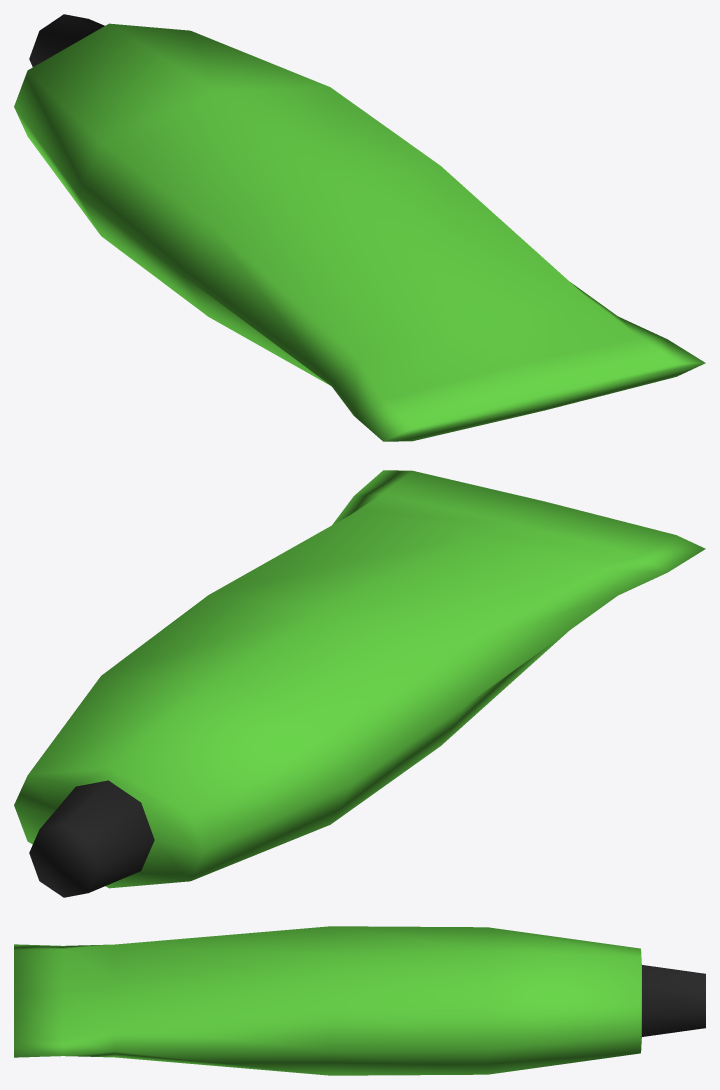
File: Paste.fbx
3 views of the same model, one above another, from view 1: azimuth 30°, elevation 25°; view 2: azimuth 150°, elevation 25°; view 3: azimuth 270°, elevation 25° (orthographic). The views are drawn at different scales.
Visible parts, largest first — view 1: Paste; view 2: Paste; view 3: Paste.
Boxes of the visible parts, bbox=[...] form: Paste: bbox=[14, 14, 705, 441]; Paste: bbox=[14, 470, 705, 897]; Paste: bbox=[14, 926, 705, 1075].
Size of the model in its own units: 14.04 by 5.76 by 36.24.
